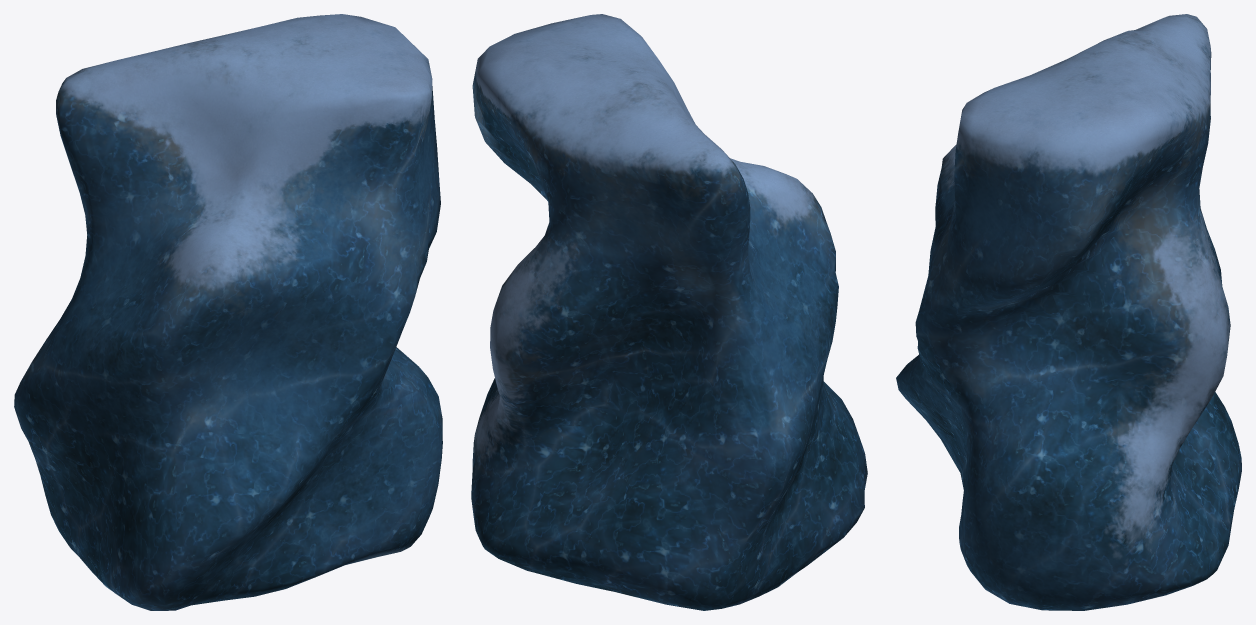
Rendered from iceberg2.glb.
3 renders of one model, left to right at view 1: azimuth 30°, elevation 25°; view 2: azimuth 150°, elevation 25°; view 3: azimuth 270°, elevation 25°, orthographic. The views are drawn at different scales.
Visible parts, largest first — view 1: iceberg_1_LP; view 2: iceberg_1_LP; view 3: iceberg_1_LP.
Boxes of the visible parts, bbox=[...] form: iceberg_1_LP: bbox=[14, 14, 442, 610]; iceberg_1_LP: bbox=[471, 14, 867, 610]; iceberg_1_LP: bbox=[896, 14, 1241, 610].
Bounding box in the file's own units: 5.28 × 7.26 × 4.31.
Materials: 1 (1 with a texture image).
